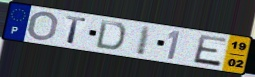1: (166, 29, 181, 60)
D: (94, 19, 128, 52)
E: (192, 33, 229, 68)
I: (135, 24, 153, 57)
O: (25, 10, 60, 41)
T: (64, 15, 88, 46)
